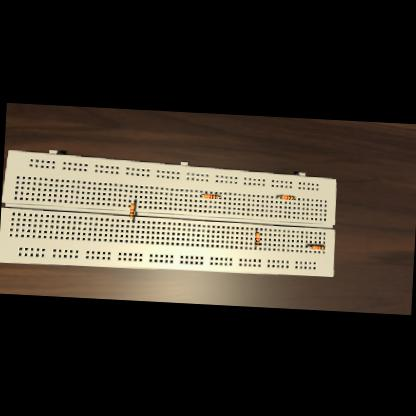breadboard: (0, 147, 338, 279)
resistor: (128, 203, 134, 217), (203, 192, 216, 198), (309, 244, 323, 249), (254, 232, 259, 245), (280, 194, 293, 198)
wire: (304, 245, 310, 247), (130, 218, 133, 221), (255, 228, 257, 231), (132, 200, 135, 202), (216, 196, 219, 198), (274, 196, 279, 197), (254, 245, 256, 247), (199, 195, 202, 196), (294, 197, 296, 198)
